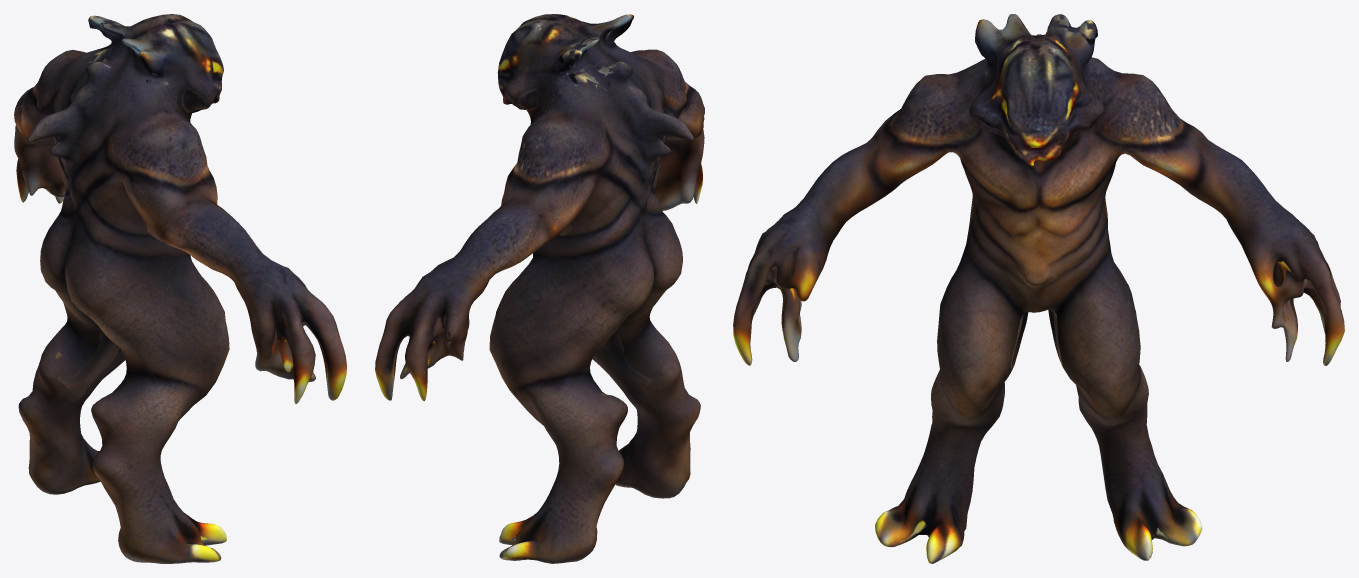
File: god.glb
3 renders of one model, left to right at view 1: azimuth 30°, elevation 25°; view 2: azimuth 150°, elevation 25°; view 3: azimuth 270°, elevation 25°, orthographic. The views are drawn at different scales.
Parts seen in each view (by area): view 1: mesh; view 2: mesh; view 3: mesh.
Part boxes in pixels (bbox=[...]): mesh: bbox=[14, 14, 346, 563]; mesh: bbox=[375, 14, 704, 563]; mesh: bbox=[733, 14, 1344, 563].
Size of the model in its own units: 0.3792 by 0.9419 by 0.9988.
Materials: 1 (1 with a texture image).
